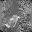people: (10, 15, 20, 26)
